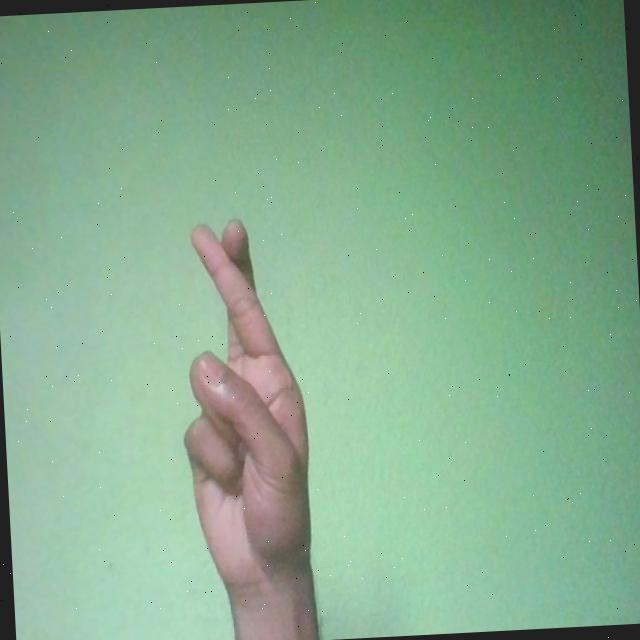Ok: (172, 217, 318, 597)
